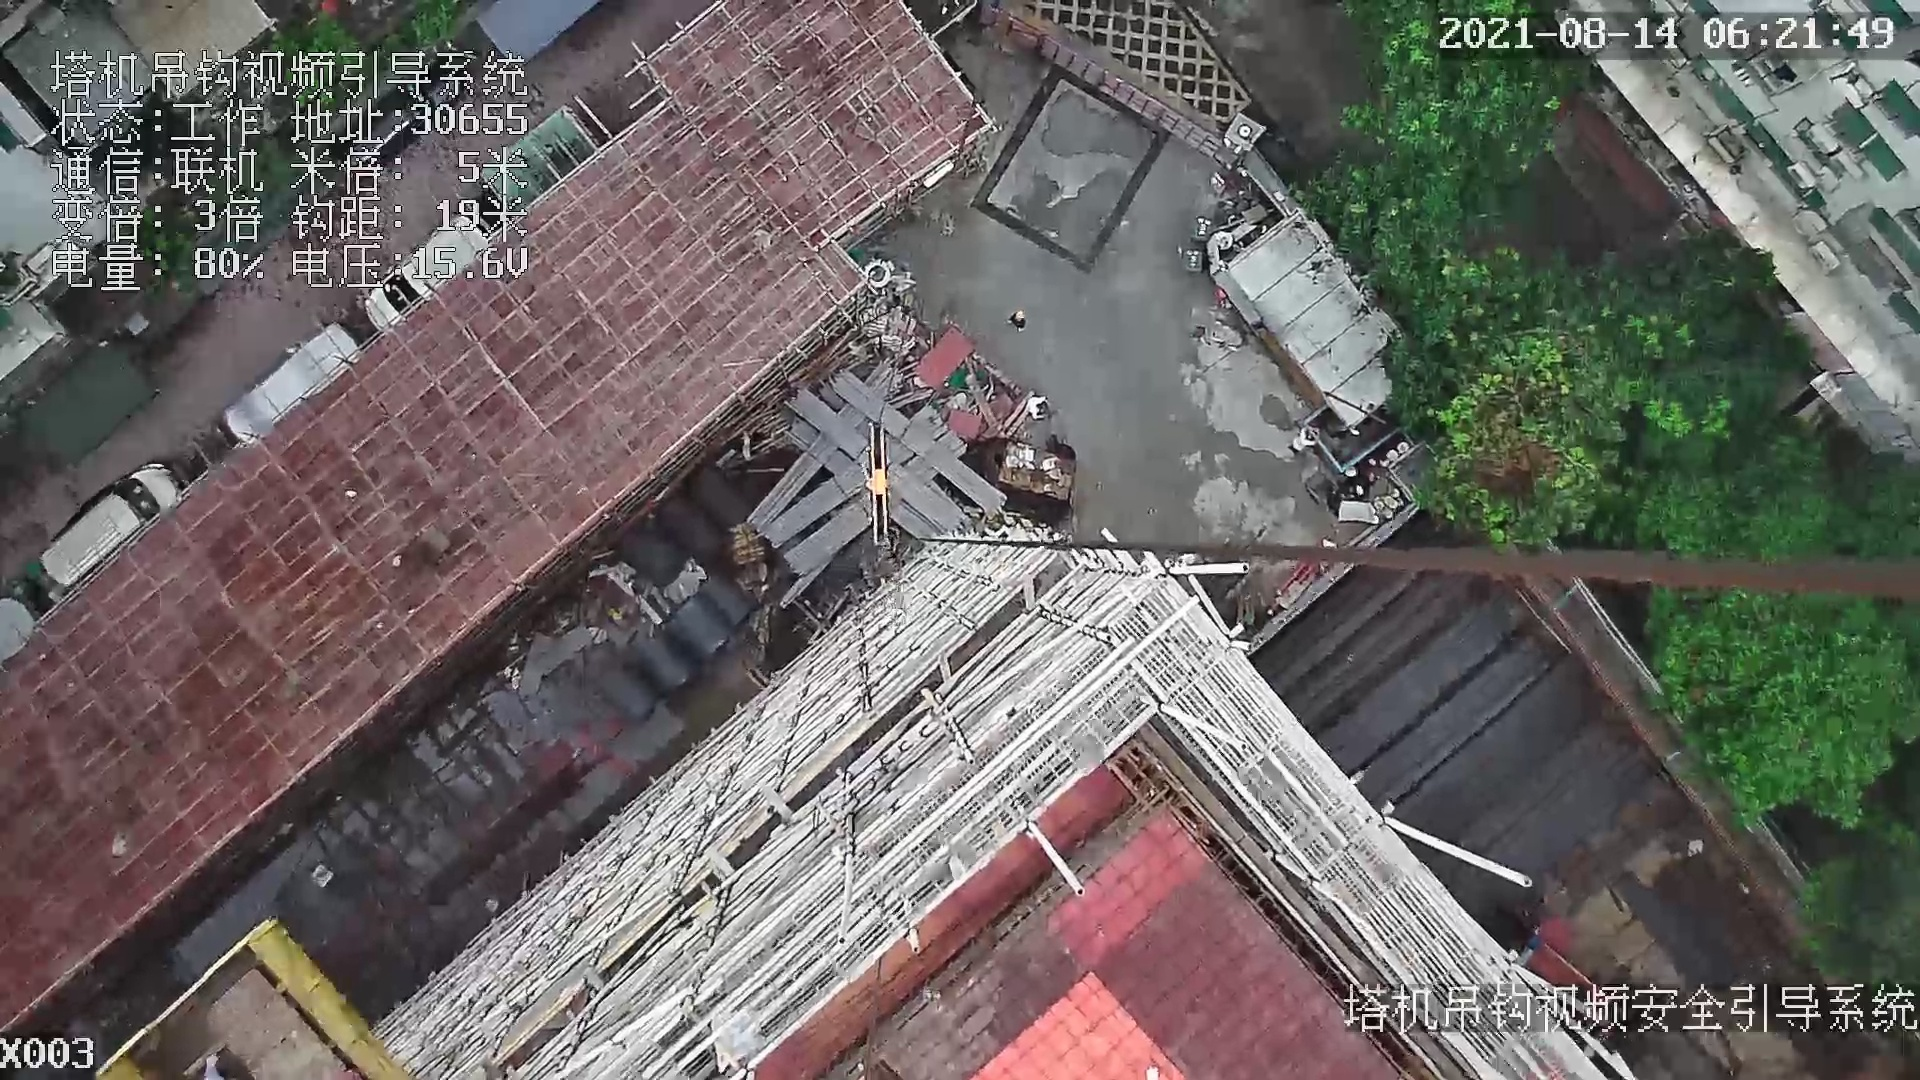hook: (865, 422, 894, 545)
